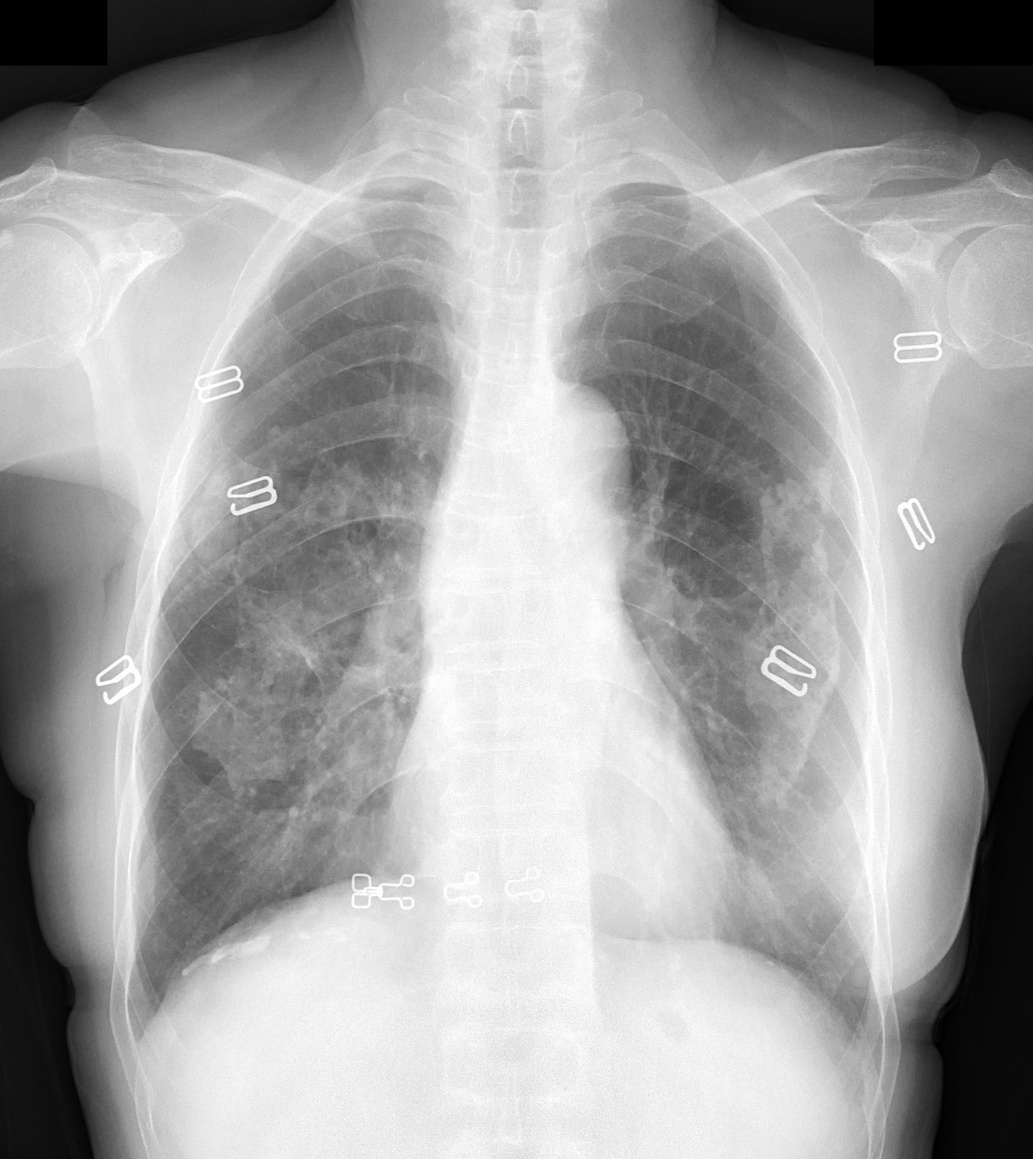Pleural thickening: (174, 413, 370, 798), (746, 451, 839, 813), (117, 765, 155, 946), (182, 928, 283, 974), (832, 1012, 889, 1069), (331, 170, 442, 197), (116, 1017, 162, 1057)
